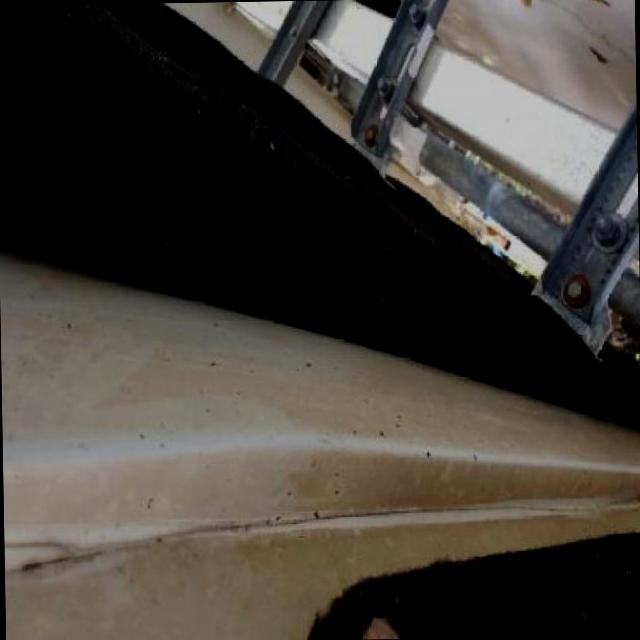crack: (5, 495, 638, 585)
